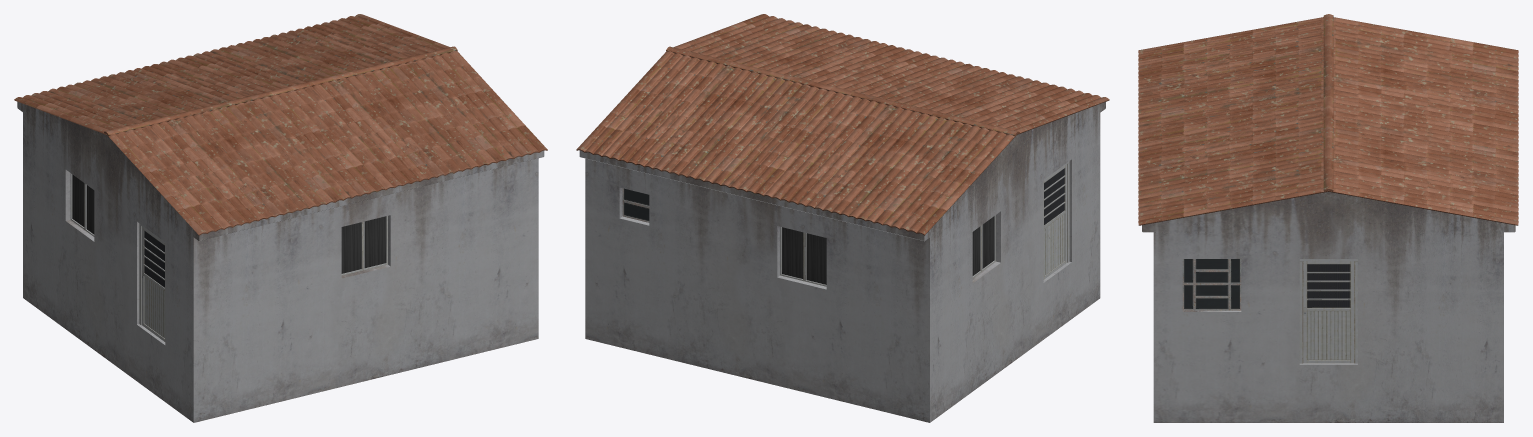
File: casa_brasileira.glb novo.glb
3 renders of one model, left to right at view 1: azimuth 30°, elevation 25°; view 2: azimuth 150°, elevation 25°; view 3: azimuth 270°, elevation 25°, orthographic. The views are drawn at different scales.
Parts seen in each view (by area): view 1: Casa001; view 2: Casa001; view 3: Casa001.
Boxes of the visible parts, x1,y1,x2,y2 form: Casa001: (14,14,547,422); Casa001: (576,14,1109,422); Casa001: (1138,14,1518,422).
Size of the model in its own units: 7.08 by 4.44 by 6.51.
3 materials, 3 textured.
